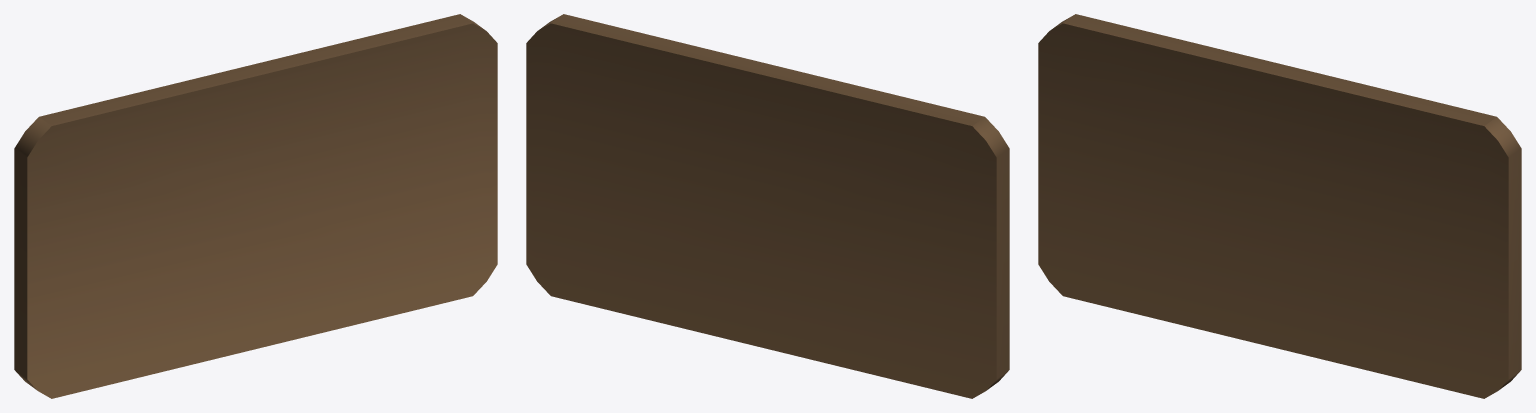
File: display_puzzle_allarme.fbx
3 renders of one model, left to right at view 1: azimuth 30°, elevation 25°; view 2: azimuth 150°, elevation 25°; view 3: azimuth 330°, elevation 25°, orthographic.
Parts seen in each view (by area): view 1: base_puzzle_allarme; view 2: base_puzzle_allarme; view 3: base_puzzle_allarme.
Boxes of the visible parts, left/top/right/bottom form: base_puzzle_allarme: left=14, top=14, right=497, bottom=398; base_puzzle_allarme: left=526, top=14, right=1009, bottom=398; base_puzzle_allarme: left=1038, top=14, right=1521, bottom=398.
Bounding box in the file's own units: 42.45 × 23.53 × 2.
